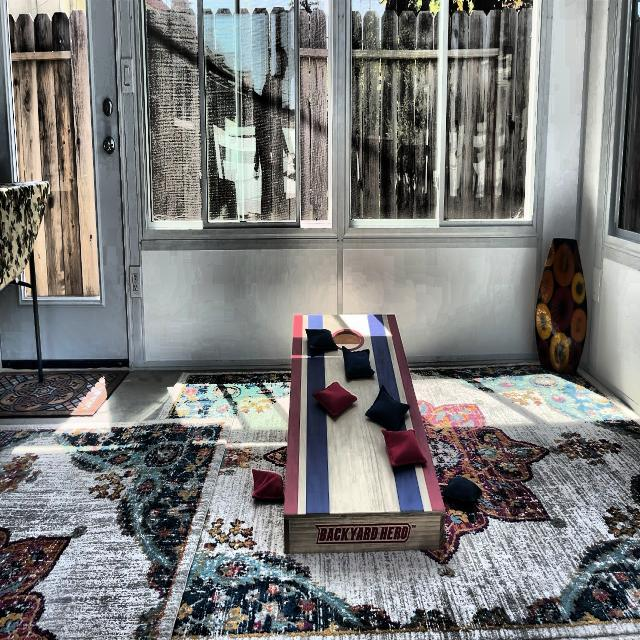blue-bean-bag: (366, 384, 410, 432), (443, 473, 482, 507), (342, 348, 375, 381), (306, 327, 338, 356)
board: (290, 316, 410, 513)
hole: (332, 327, 364, 349)
red-bean-bag: (312, 381, 358, 419), (382, 429, 426, 468), (252, 468, 283, 500)
